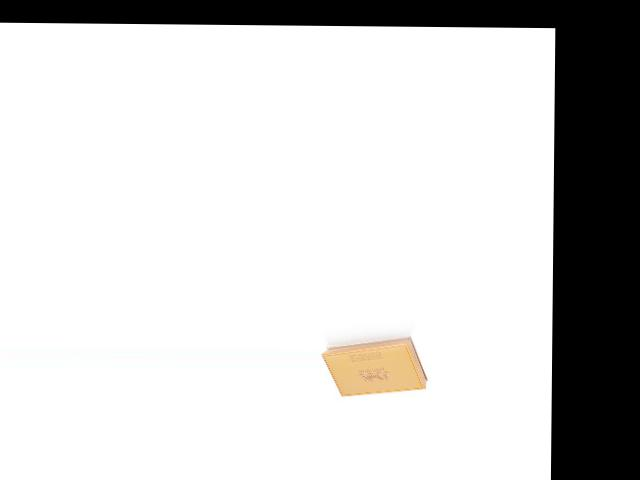chocolate: (322, 327, 430, 400)
